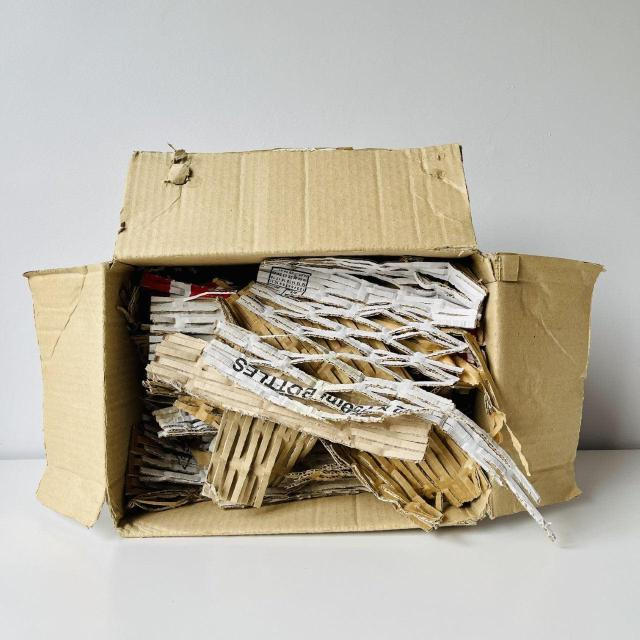Garbage: (22, 130, 617, 549)
